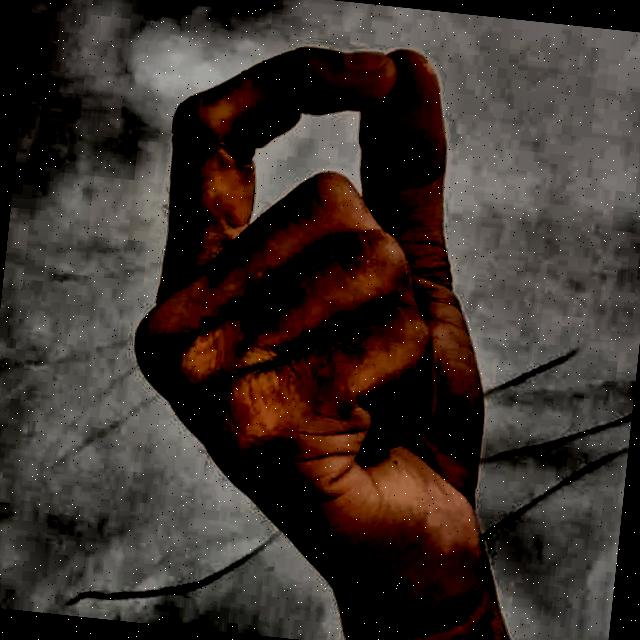Gha: (80, 4, 602, 640)
